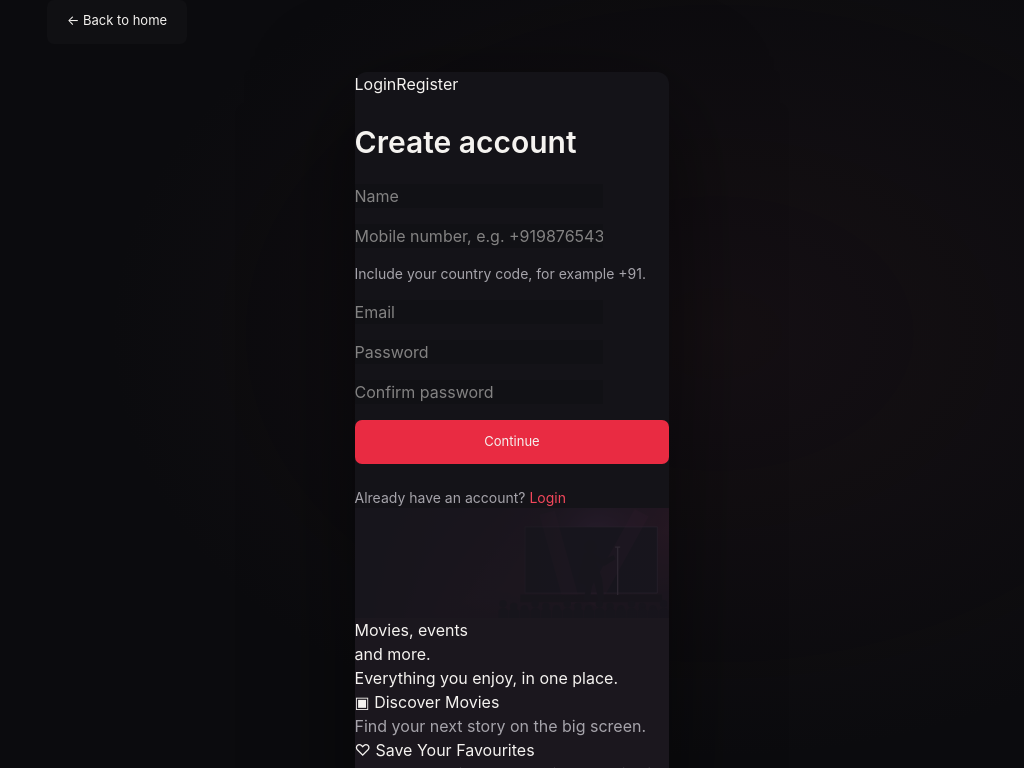
keeps rejected registration OTP on the verification step without activating an account
Step 1. Type "Cinema Fan" into the field labelled "Name" → coordinates (478, 196), box top-left (354, 184), bottom-right (602, 208)
Step 2. Type "+919876543210" into the field labelled "Mobile number" → coordinates (478, 236), box top-left (354, 224), bottom-right (602, 248)
Step 3. Type "new@example.com" into the field labelled "Email" → coordinates (478, 312), box top-left (354, 300), bottom-right (602, 324)
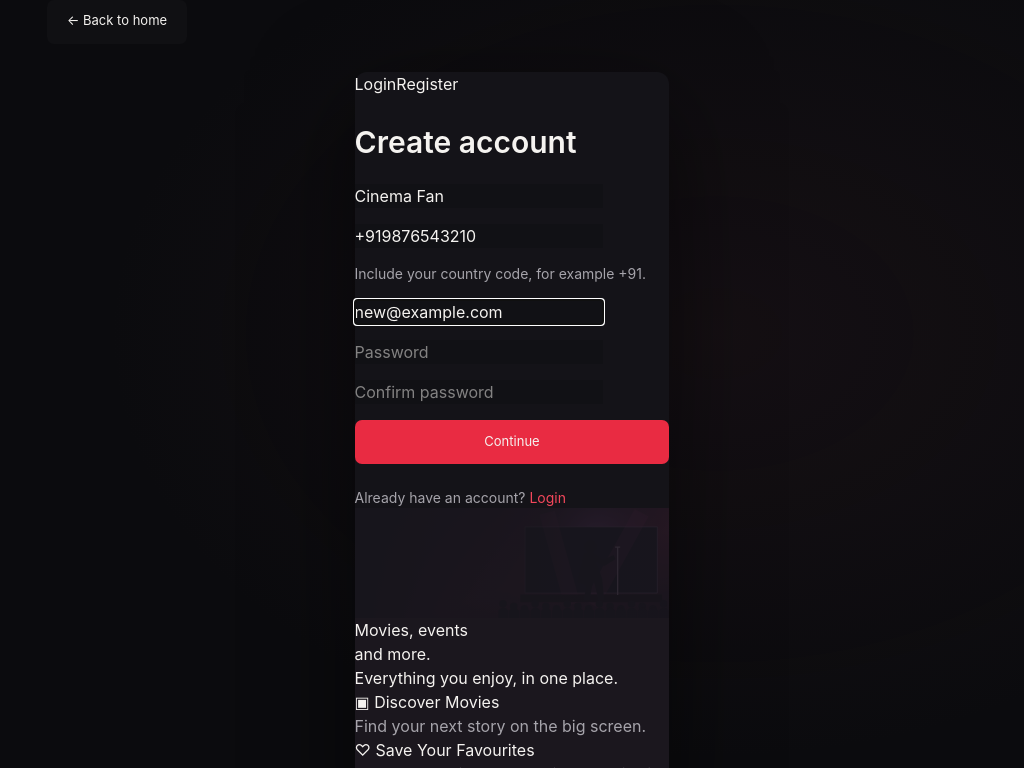
Step 4. Type "safe-password-123" into the password field labelled "Password" → coordinates (478, 352), box top-left (354, 340), bottom-right (602, 364)
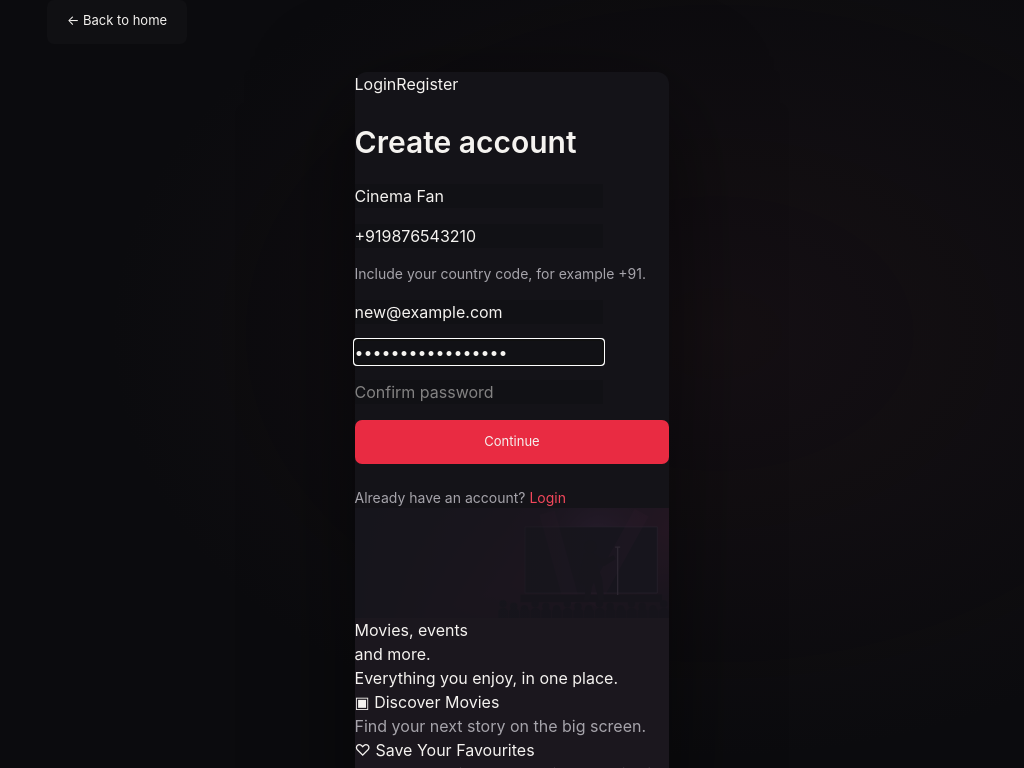
Step 5. Type "safe-password-123" into the password field labelled "Confirm password" → coordinates (478, 392), box top-left (354, 380), bottom-right (602, 404)
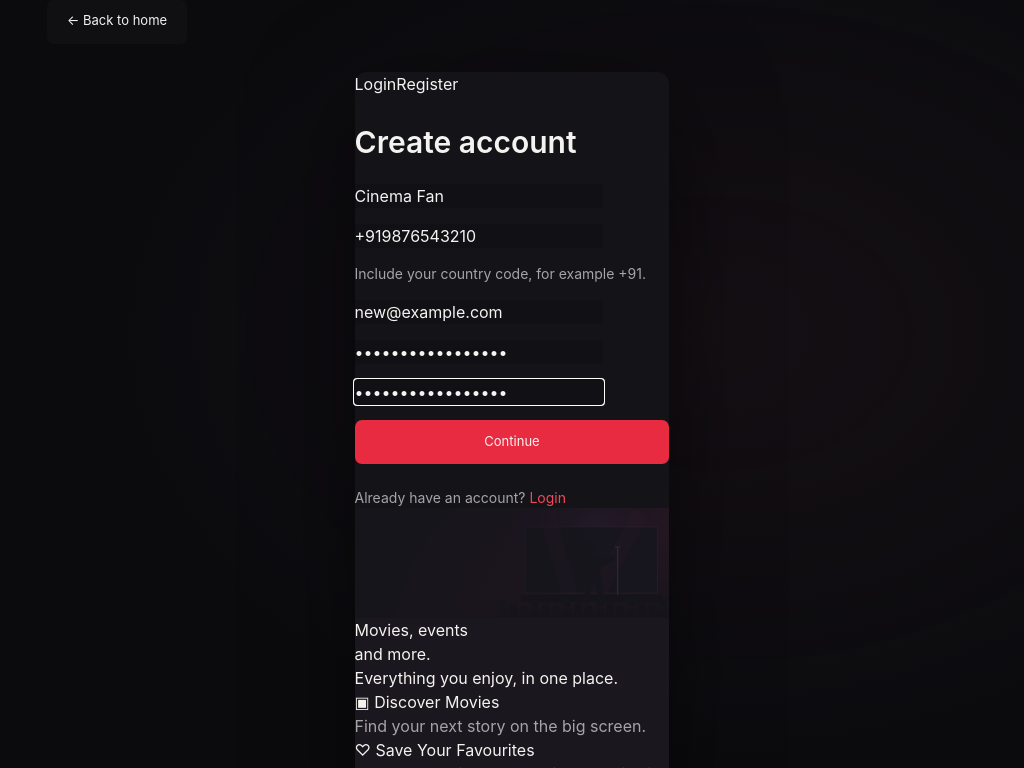
Step 6. Click the button "Continue" → coordinates (512, 442), box top-left (354, 420), bottom-right (669, 464)
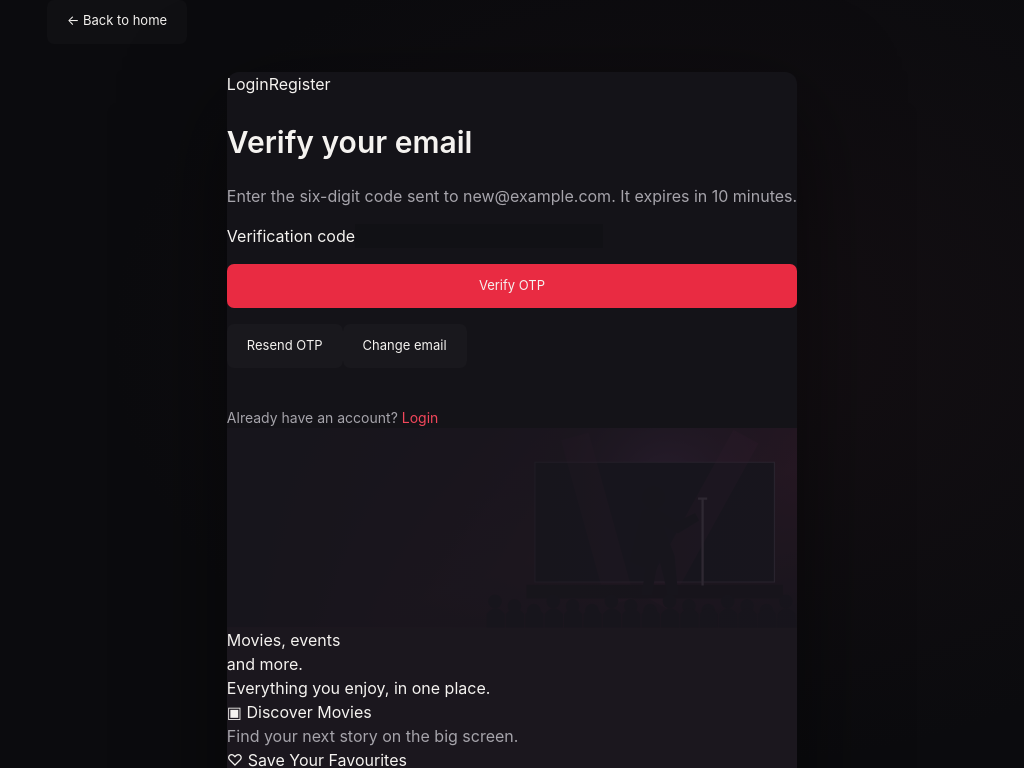
Step 7. Type "000000" into the field labelled "Verification code" → coordinates (479, 236), box top-left (355, 224), bottom-right (603, 248)
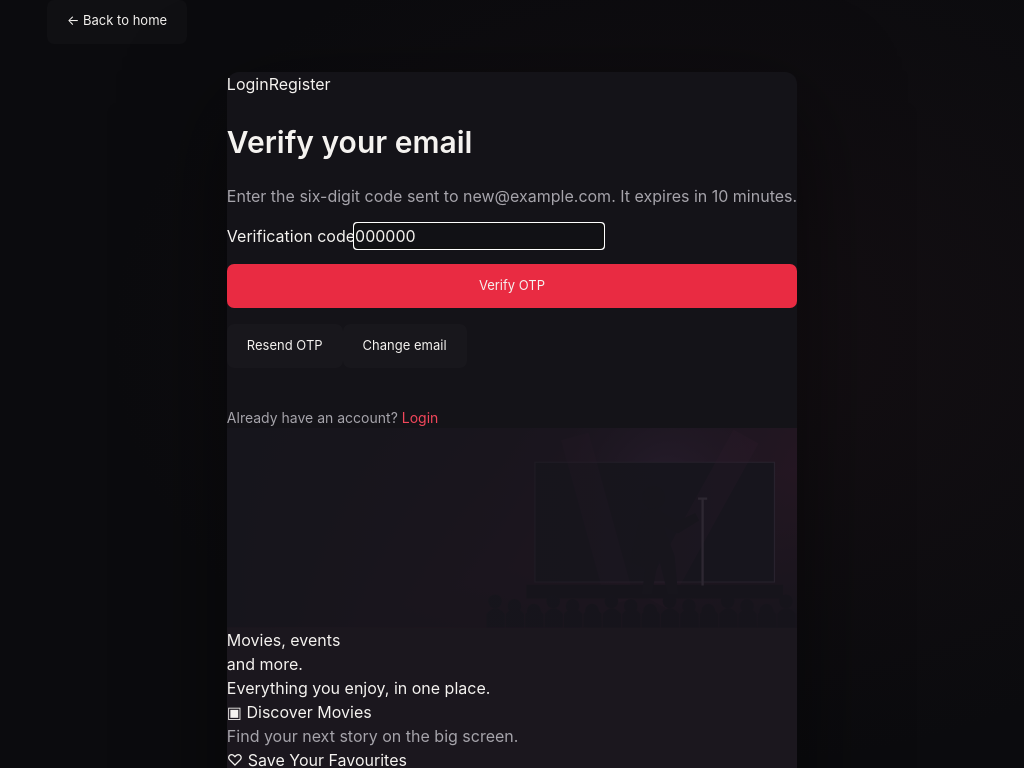
Step 8. Click the button "Verify OTP" → coordinates (512, 286), box top-left (227, 264), bottom-right (797, 308)
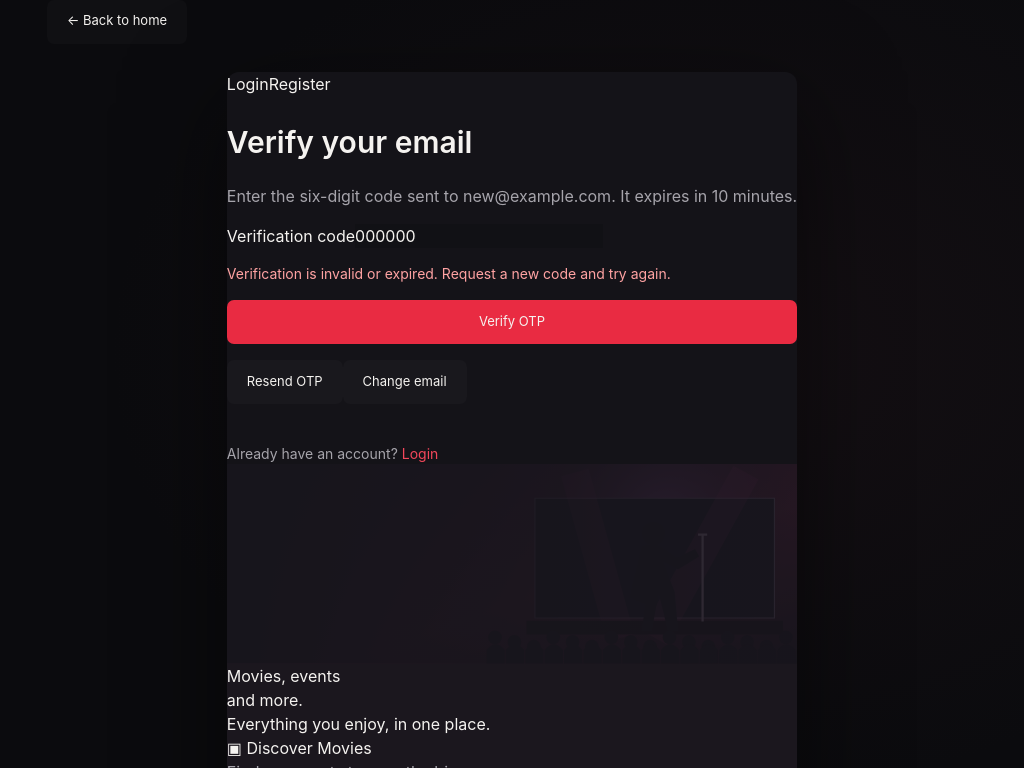
Expected: the button "Resend OTP" is disabled, top-left (227, 360), bottom-right (343, 404)
Expected: the message shows "invalid or expired", top-left (227, 265), bottom-right (671, 282)
